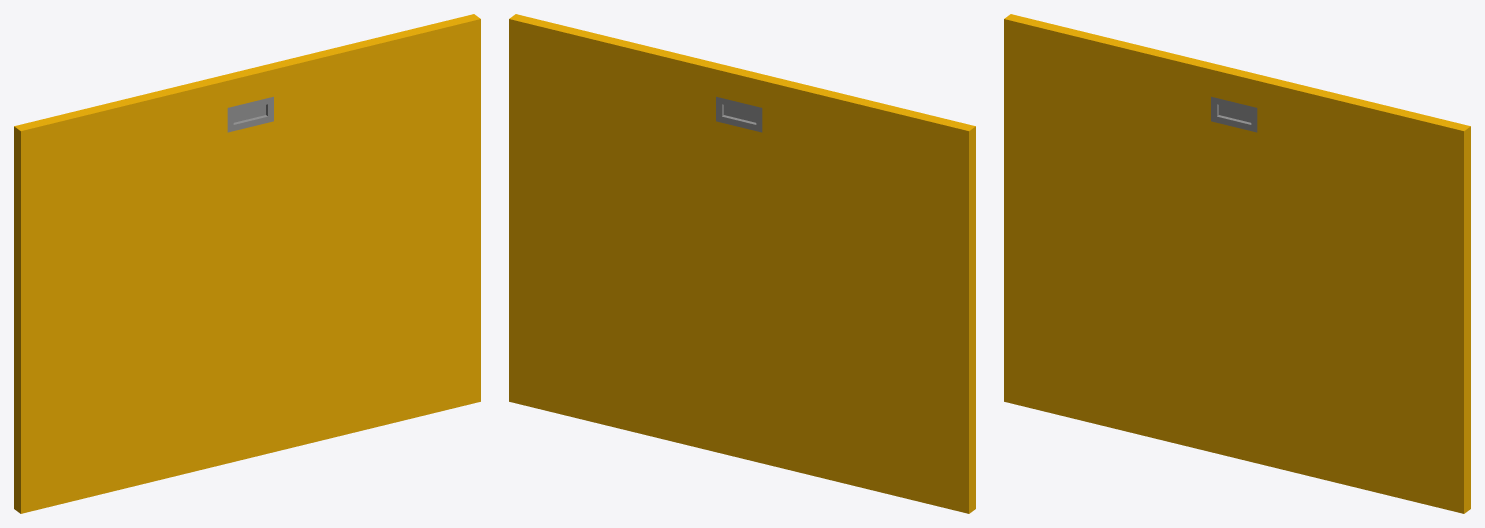
Rendered from door_manual_flush_5x3_dynamic.dae.
3 renders of one model, left to right at view 1: azimuth 30°, elevation 25°; view 2: azimuth 150°, elevation 25°; view 3: azimuth 330°, elevation 25°, orthographic.
Parts seen in each view (by area): view 1: Cube; view 2: Cube; view 3: Cube.
Part boxes in pixels (x1,y1,x2,y2): Cube: (14, 14, 480, 513); Cube: (509, 14, 975, 513); Cube: (1004, 14, 1470, 513).
Size of the model in its own units: 1.22 by 0.0312 by 0.9688.
